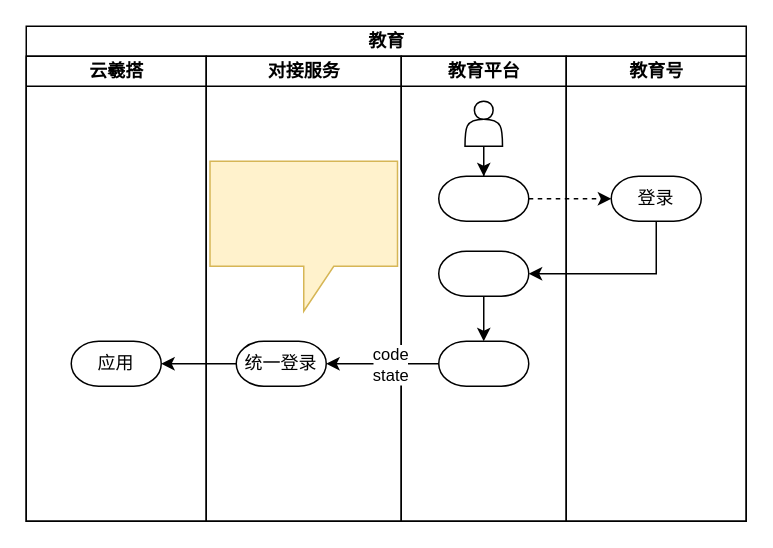
Image size: 773x548. Some labels were removed from this diagram. Each missing label, with the centre of its shape:
"云羲搭有统一配置管理的租户，维护授权的应用信息，需要账号密码，找对应的人员提供" belongs at [303,235].
"完成登录" belongs at [483,273].
"打开应用" belongs at [483,363].
"登录插件" belongs at [483,198].
